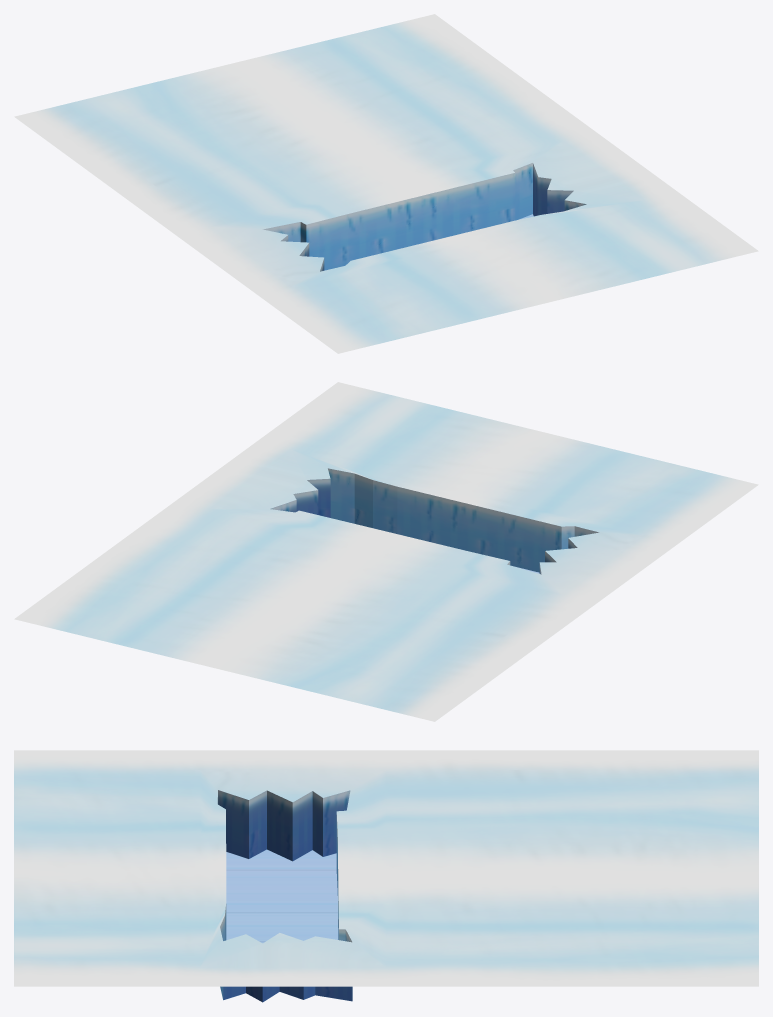
Rendered from Hole_L_M_02.FBX.
3 views of the same model, one above another, from view 1: azimuth 30°, elevation 25°; view 2: azimuth 150°, elevation 25°; view 3: azimuth 270°, elevation 25° (orthographic). The views are drawn at different scales.
Parts seen in each view (by area): view 1: modelRoad083; view 2: modelRoad083; view 3: modelRoad083.
Boxes of the visible parts, <box> form: modelRoad083: <box>14,14,758,353</box>; modelRoad083: <box>14,382,758,721</box>; modelRoad083: <box>14,750,758,1002</box>.
Size of the model in its own units: 600 by 70 by 800.
